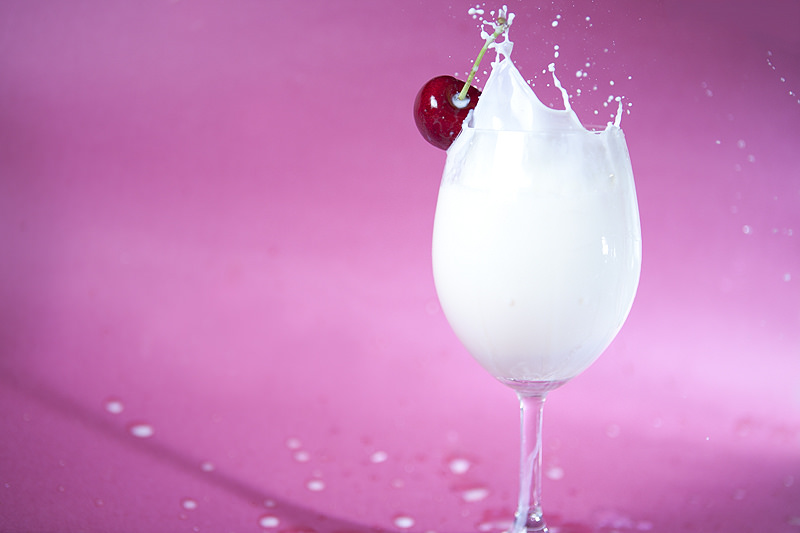glass of milk: (427, 24, 655, 525)
